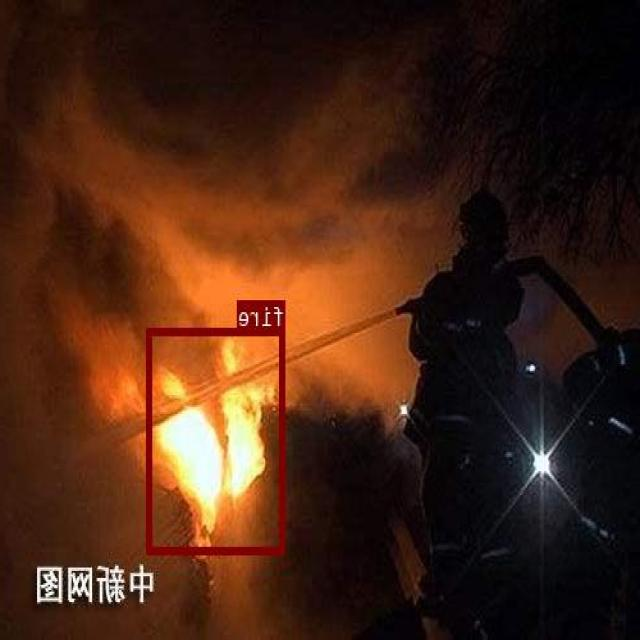fire: (148, 328, 286, 553)
